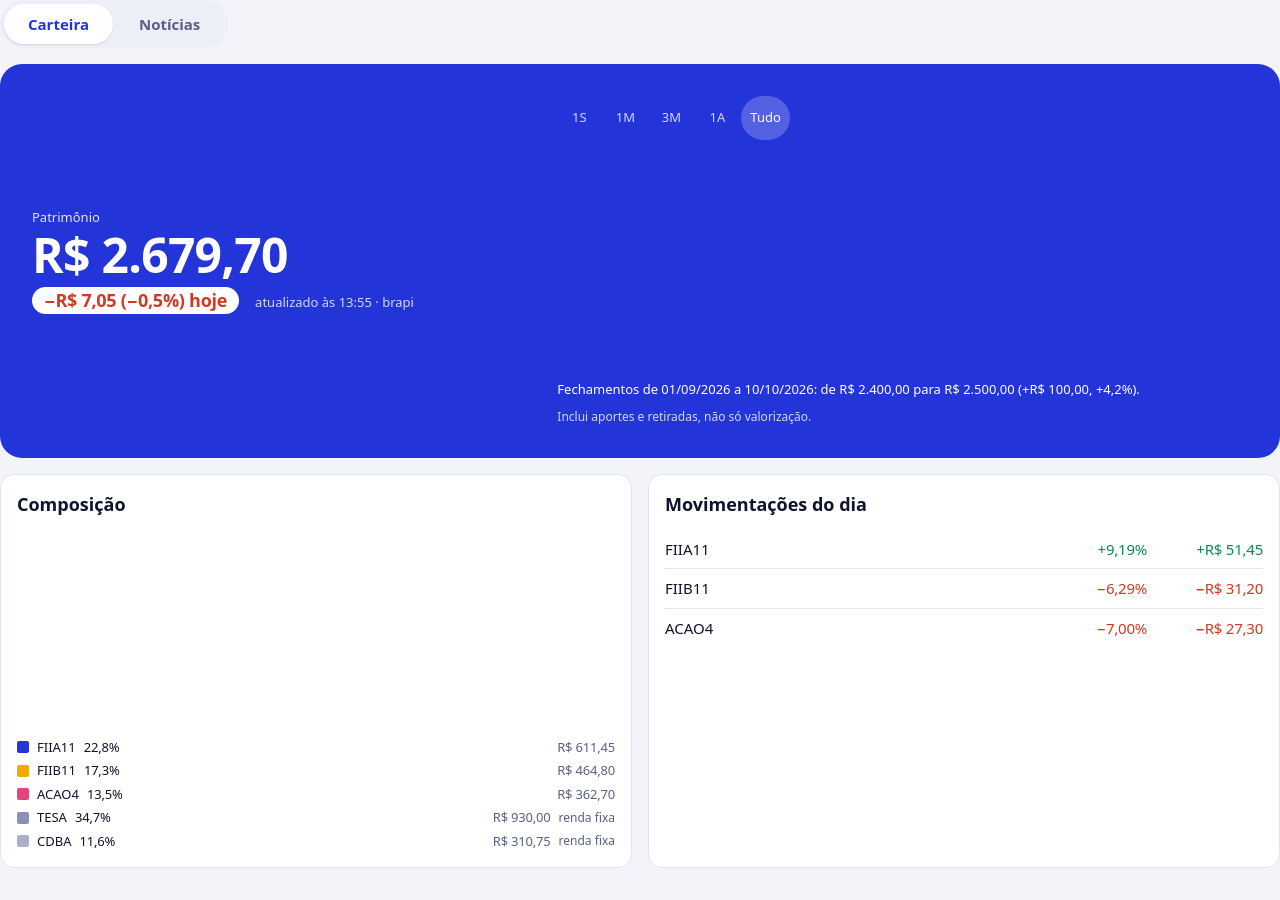
Test case: Início: evolução do patrimônio › período com menos de dois registros: explica e não desenha linha
The width and height of the screenshot is (1280, 900).
What coordinates should you click on to do the following:
click the button "1S"
I would click on:
 (579, 118)
Its box is [557,96,601,140].
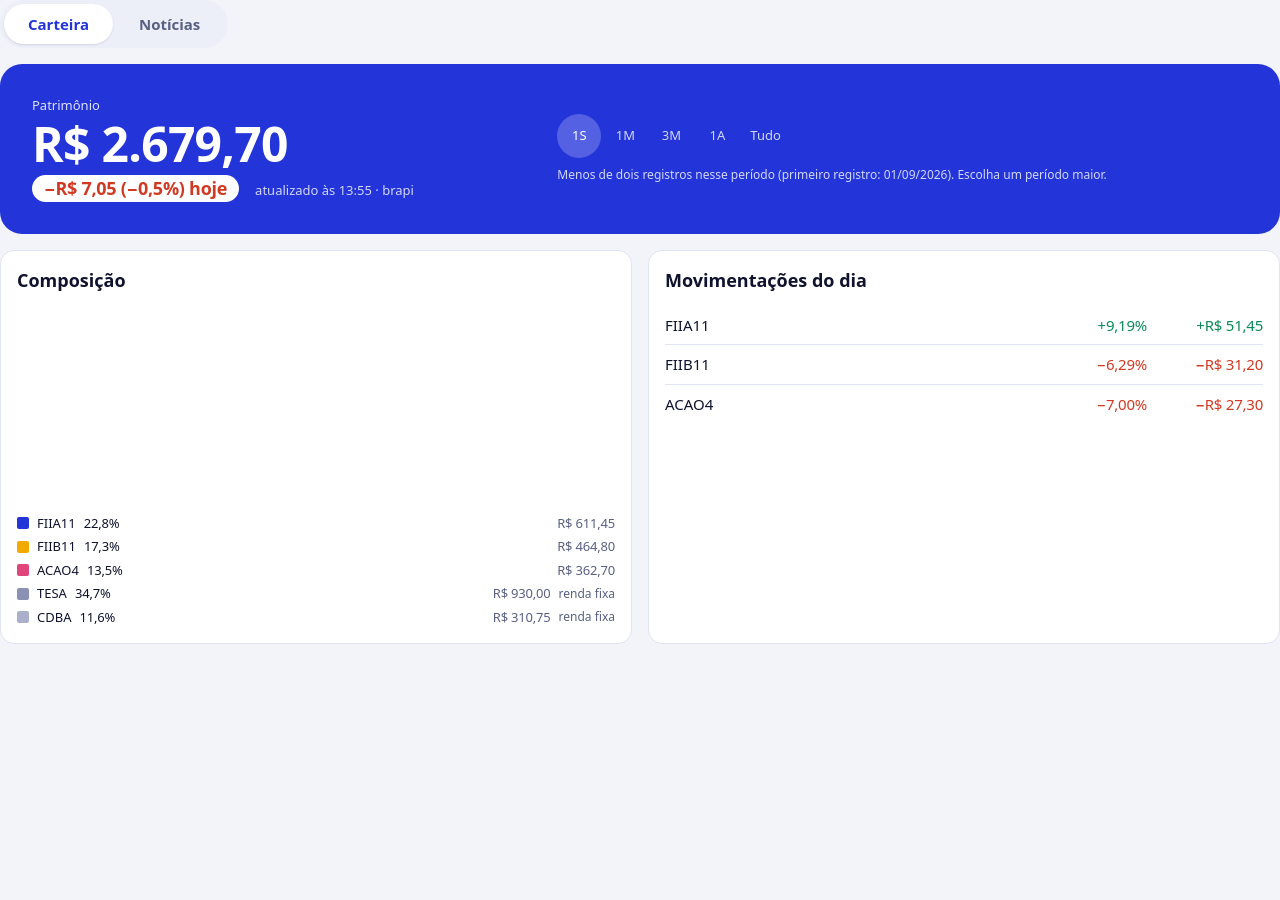
Now the text "primeiro registro: 01/09/2026" is shown, box [557,166,1107,183]
